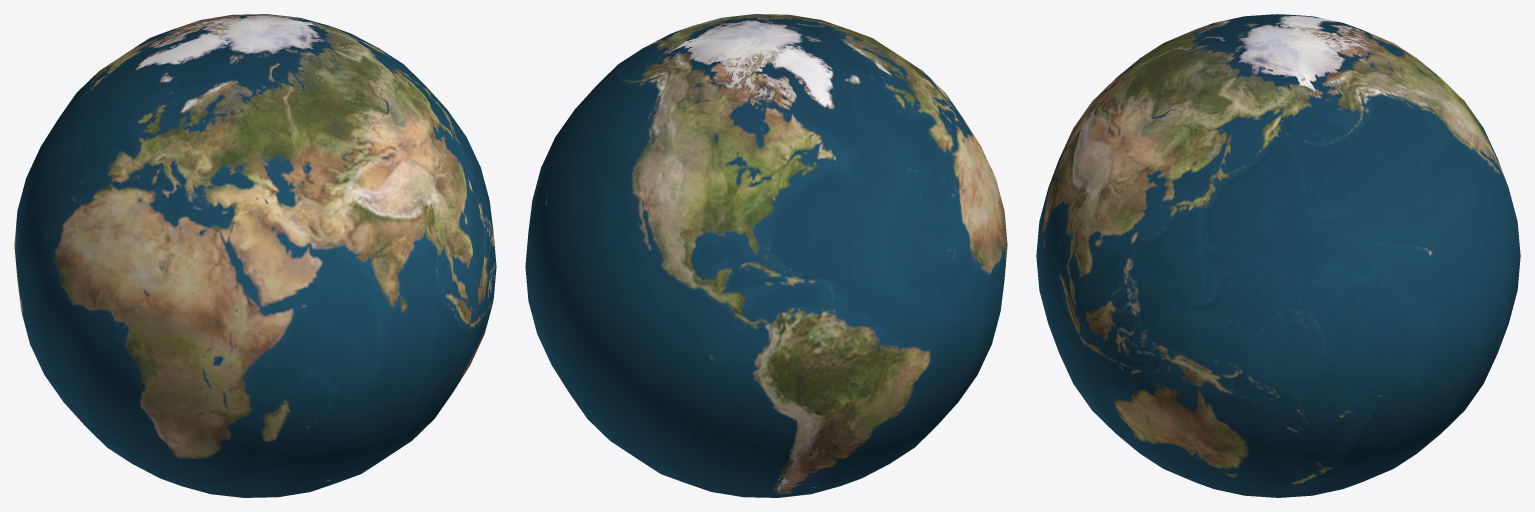
Rendered from earth1.fbx.
3 renders of one model, left to right at view 1: azimuth 30°, elevation 25°; view 2: azimuth 150°, elevation 25°; view 3: azimuth 270°, elevation 25°, orthographic.
Visible parts, largest first — view 1: pSphere1; view 2: pSphere1; view 3: pSphere1.
Part boxes in pixels (x1,y1,x2,y2): pSphere1: (14, 14, 496, 497); pSphere1: (525, 14, 1007, 497); pSphere1: (1036, 14, 1520, 497).
Bounding box in the file's own units: 2 × 2 × 2.
2 materials, 1 textured.
